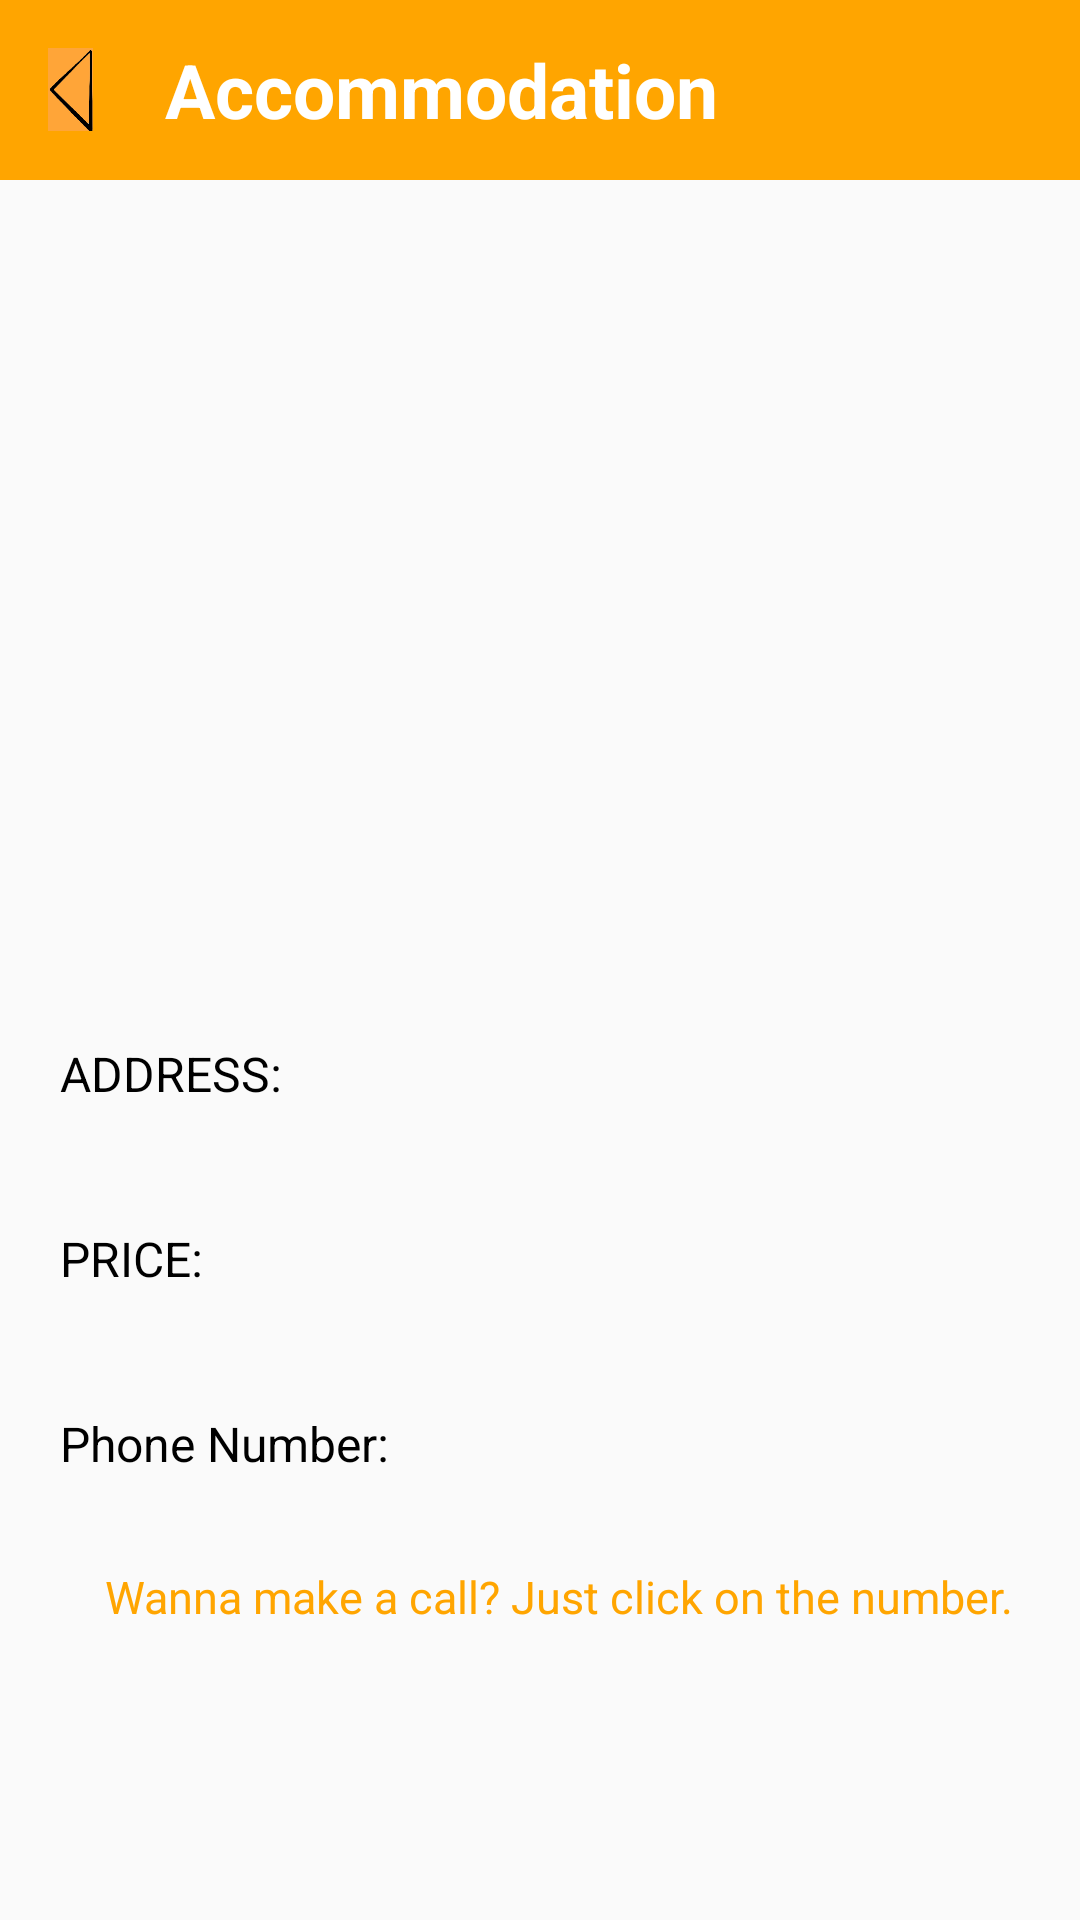

Where icons sit on this 1080 × 1920 app screen, as [x1=x1, y1=y1, x2=x2, y2=y2]:
backarrow: [x1=48, y1=48, x2=93, y2=131]
